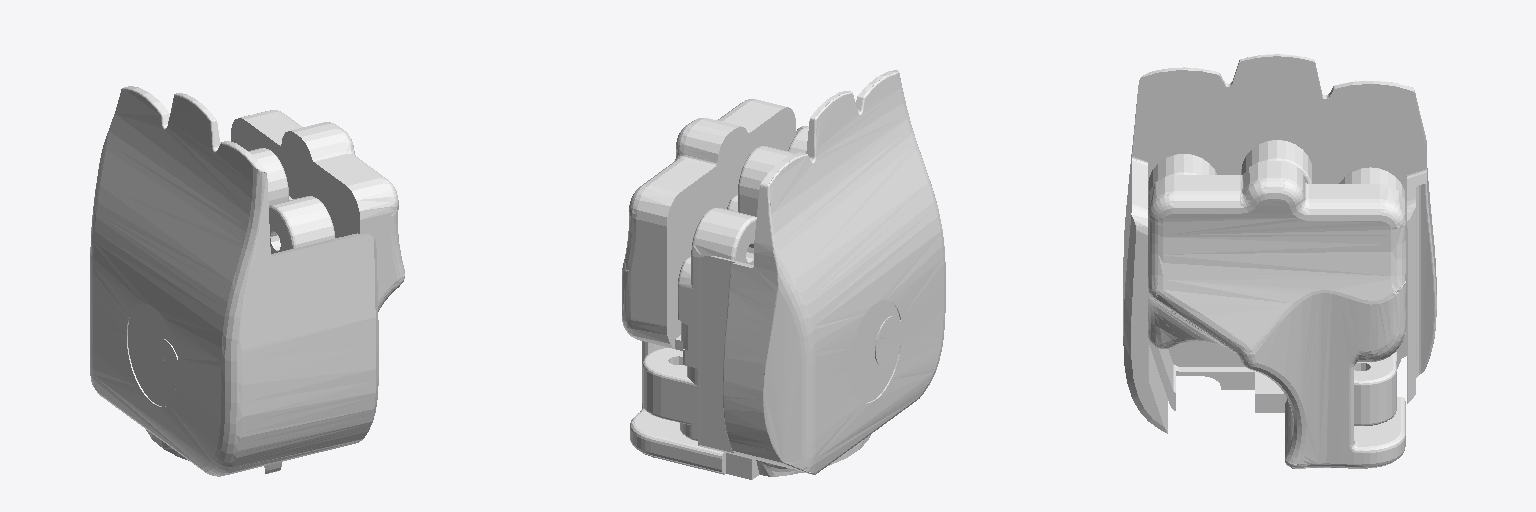
File: tesollo_left_ll_dg_mount_visuals_ll_dg_palm_mesh_World_mesh.obj
3 renders of one model, left to right at view 1: azimuth 30°, elevation 25°; view 2: azimuth 150°, elevation 25°; view 3: azimuth 270°, elevation 25°, orthographic.
Bounding box in the file's own units: 0.064 × 0.0991 × 0.0823.